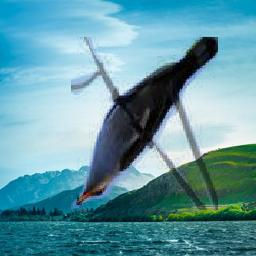Cuckoo: (72, 38, 219, 211)
